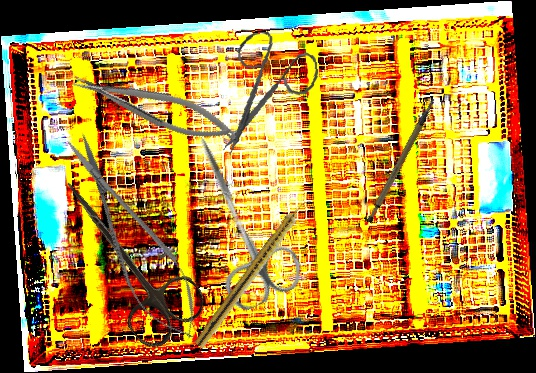Handpiece: (193, 194, 314, 351)
Iris Scissors: (33, 160, 213, 355), (164, 123, 309, 315), (207, 25, 328, 156)
Micro Scissor: (48, 121, 217, 354)
Needle Holder: (69, 59, 242, 154)
Scalpel Handle: (351, 98, 454, 225)
